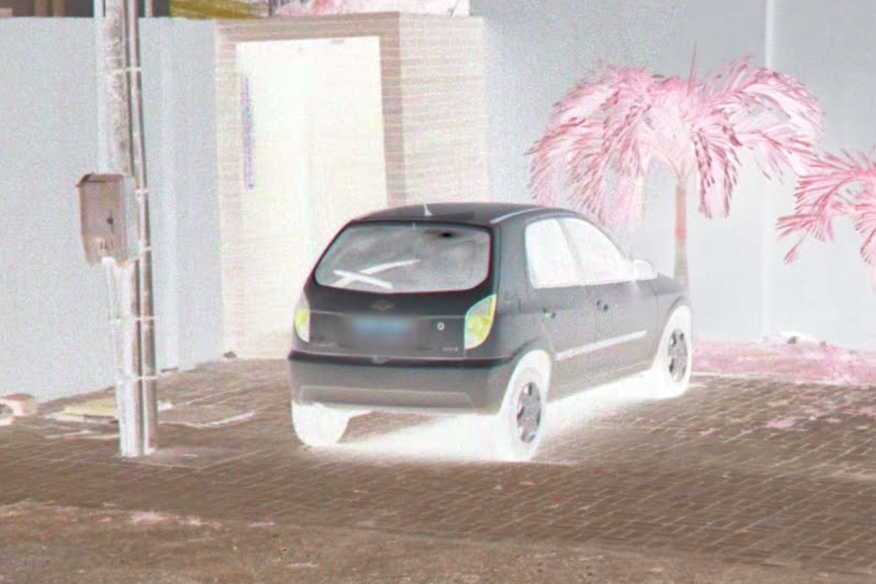car: (284, 189, 696, 451)
